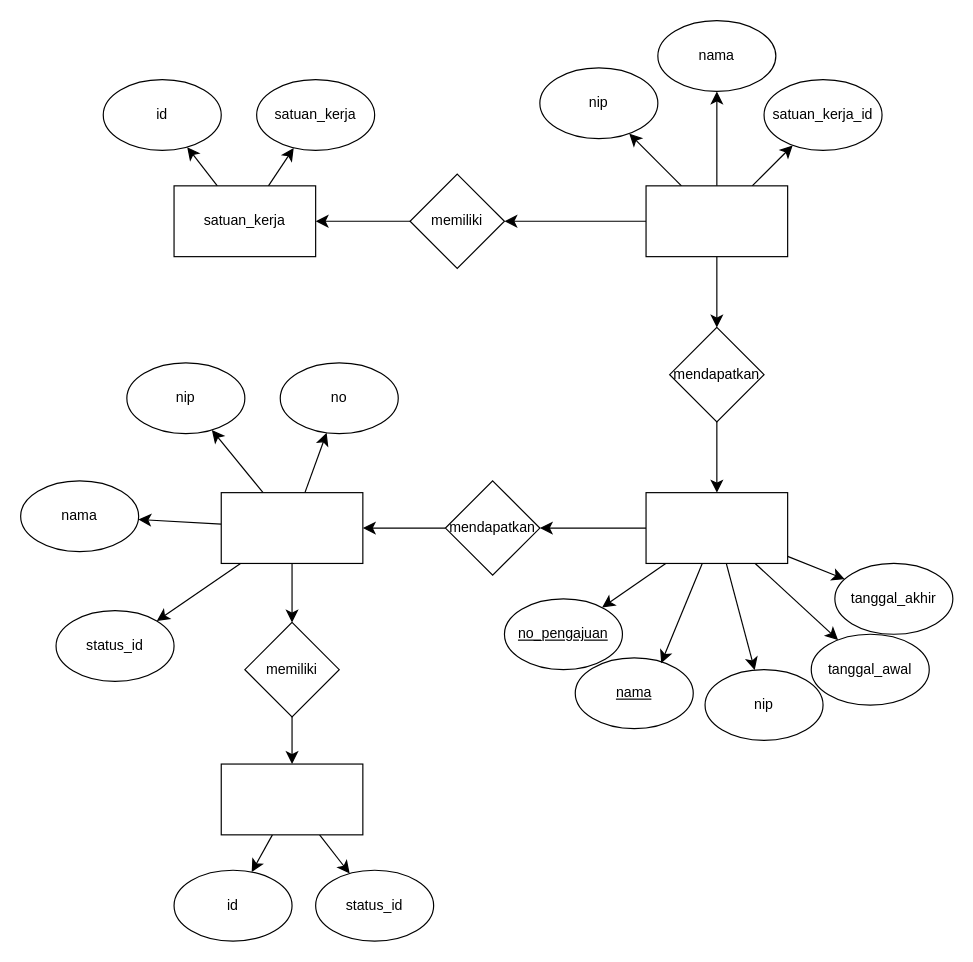
The diagram is 973 pixels wide and 962 high, and some of its shapes have lost their labels. Here are the shapes that lost their labels. From the top down, the centre of each, then its label:
the point at 716,221: pengajuan
the point at 291,527: status_pengajuan
the point at 716,527: data_pengajuan
the point at 291,799: status
